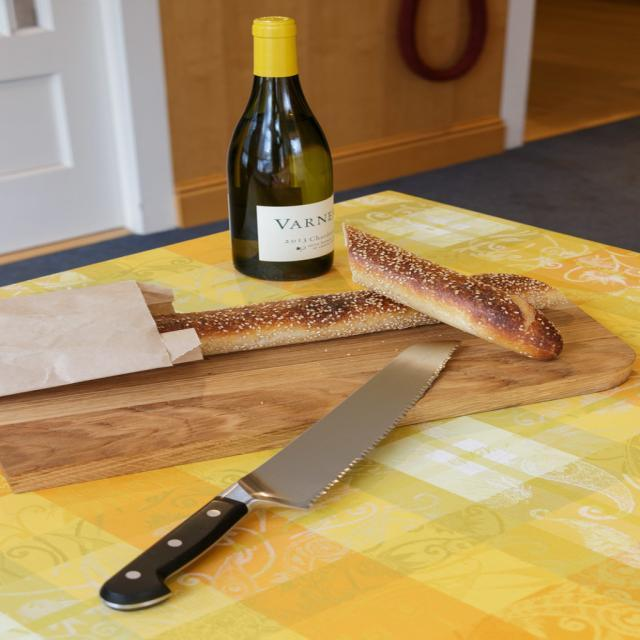Knife: (100, 344, 456, 610)
